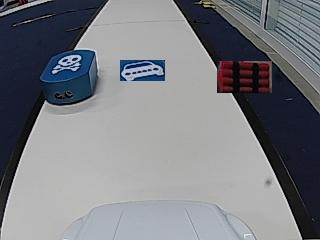danger: (51, 53, 80, 73)
